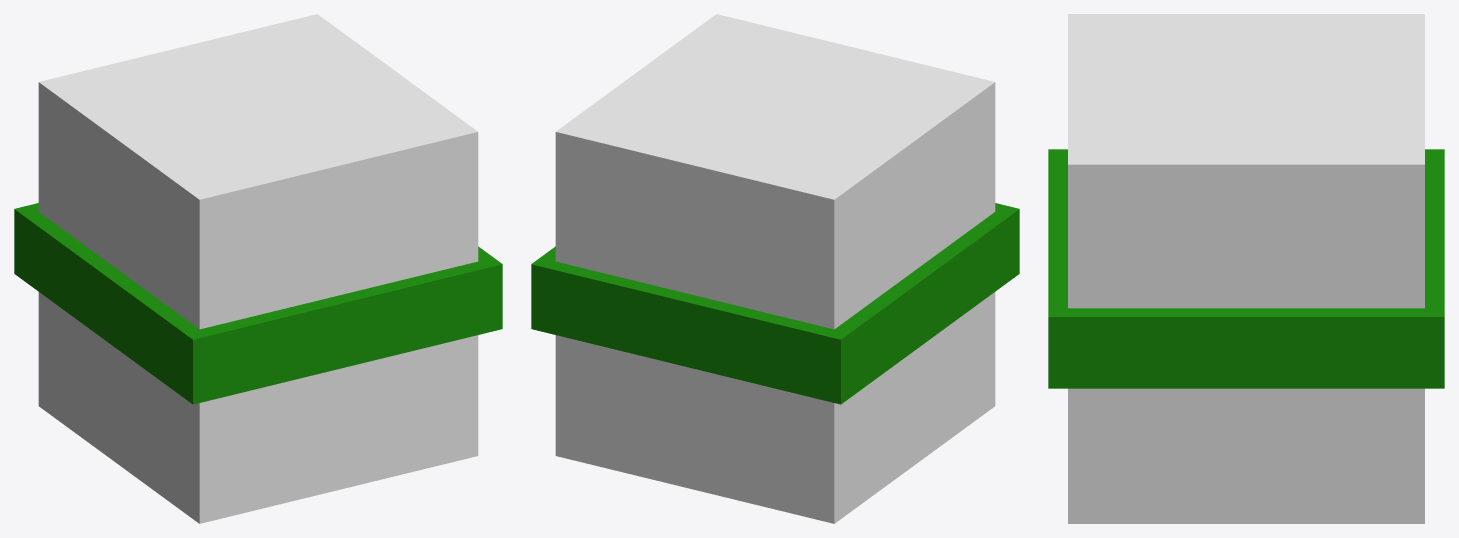
The model's file is TileRef.fbx.
3 renders of one model, left to right at view 1: azimuth 30°, elevation 25°; view 2: azimuth 150°, elevation 25°; view 3: azimuth 270°, elevation 25°, orthographic. The views are drawn at different scales.
Visible parts, largest first — view 1: Cube, Cube.001; view 2: Cube, Cube.001; view 3: Cube, Cube.001.
Boxes of the visible parts, left/top/right/bottom form: Cube: left=38, top=14, right=478, bottom=523; Cube.001: left=14, top=203, right=502, bottom=404; Cube: left=555, top=14, right=995, bottom=523; Cube.001: left=531, top=203, right=1019, bottom=404; Cube: left=1068, top=14, right=1424, bottom=523; Cube.001: left=1048, top=149, right=1444, bottom=388.
Size of the model in its own units: 100 by 100 by 100.
